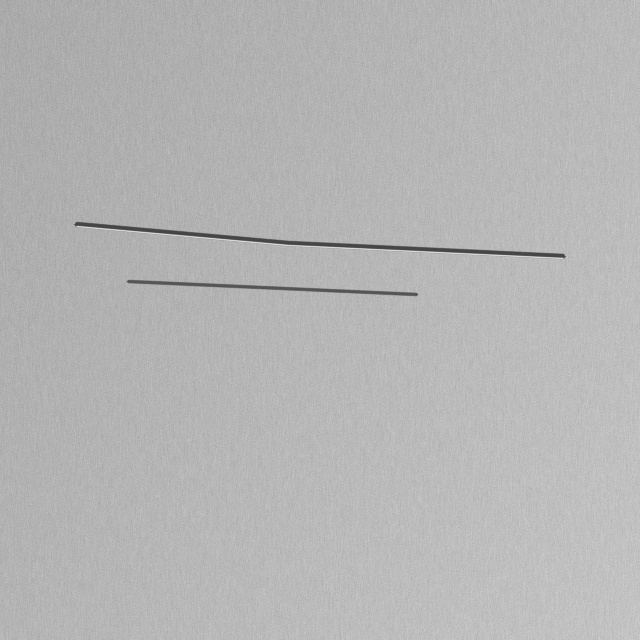welding line: (80, 280, 560, 360)
